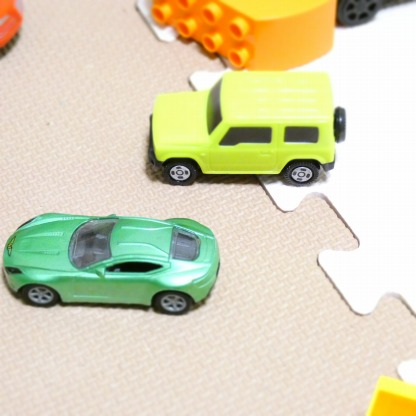car: (149, 69, 344, 186), (0, 213, 224, 314)
